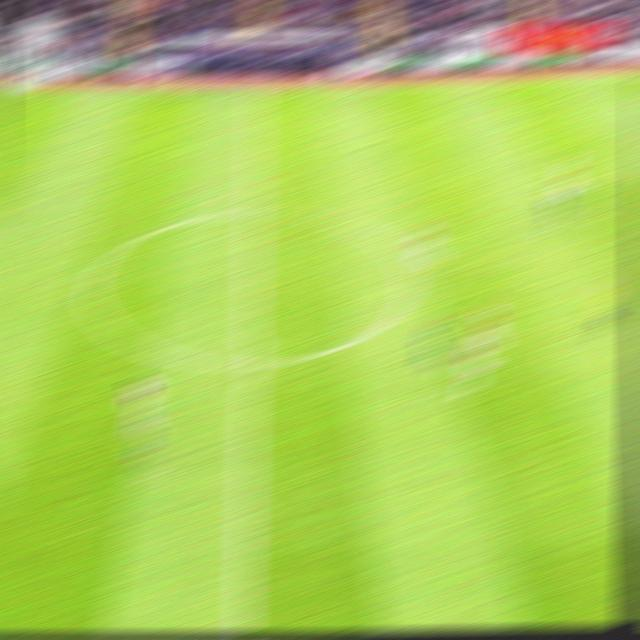halfcircle_bottom: (232, 345, 270, 380)
halfcircle_top: (235, 196, 277, 228)
midline_top_intersection: (239, 77, 272, 102)
